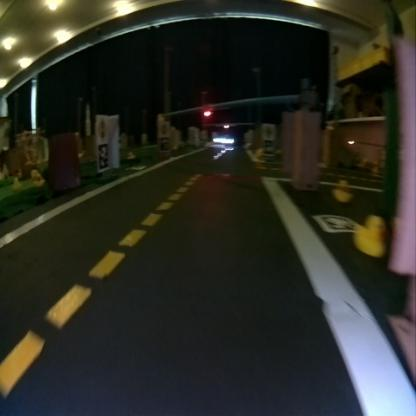Duckie: (356, 214, 386, 257), (333, 178, 352, 202), (12, 177, 22, 190)
Duckiebot: (212, 134, 233, 145)
Intersection sign: (263, 124, 274, 138)
QR code: (97, 142, 107, 168), (263, 139, 273, 154), (159, 136, 168, 150)
Signal sign: (96, 116, 108, 140)
Traffic light: (202, 106, 211, 116)
